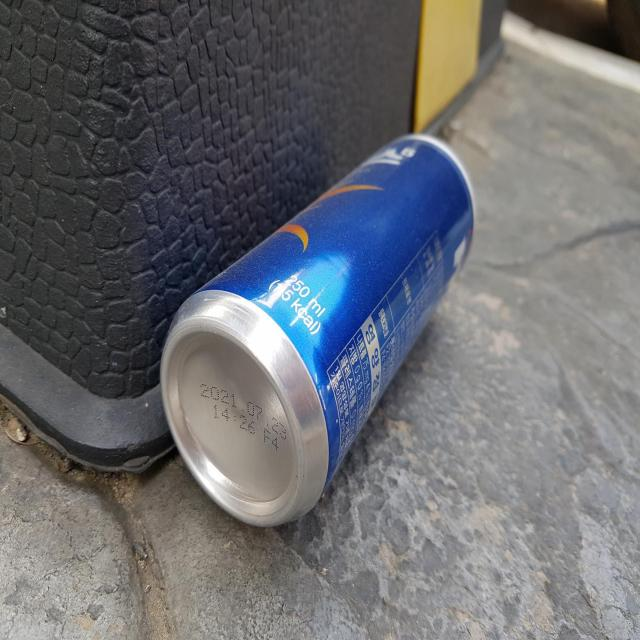can: (160, 134, 475, 527)
